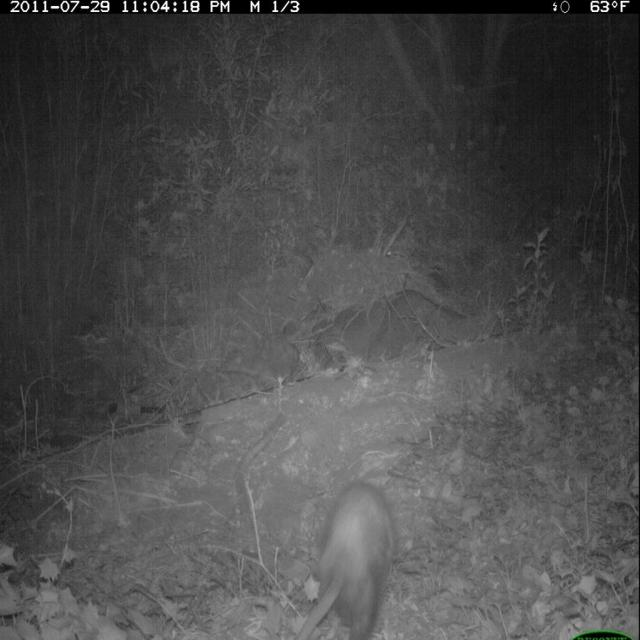opossum: (289, 468, 405, 640)
